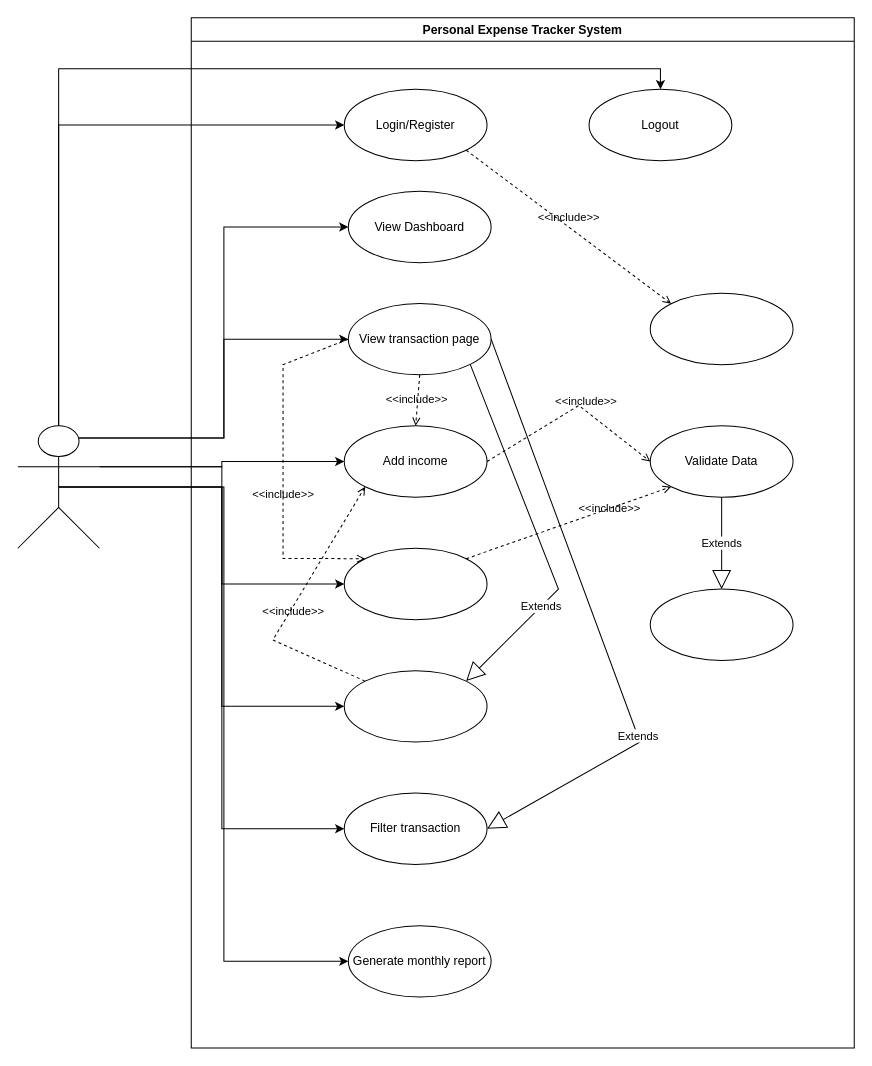
Some shapes in this 872 by 1066 pixel diagram are drawn without their labels. Each missing label, with the centre of its shape:
"Add expense" goes at (x=415, y=583).
"Authenticate User" goes at (x=721, y=328).
"Edit/delete transaction" goes at (x=415, y=706).
"Error Message" goes at (x=721, y=624).
"User" goes at (x=58, y=486).
